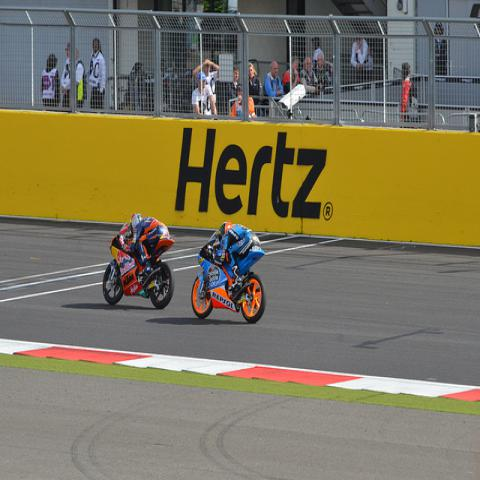motorcycle: (191, 234, 268, 323), (102, 223, 176, 309)
